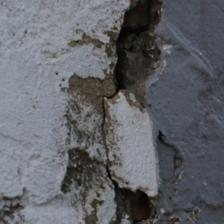Crack: (114, 4, 171, 113), (96, 91, 124, 192), (112, 181, 165, 223)
